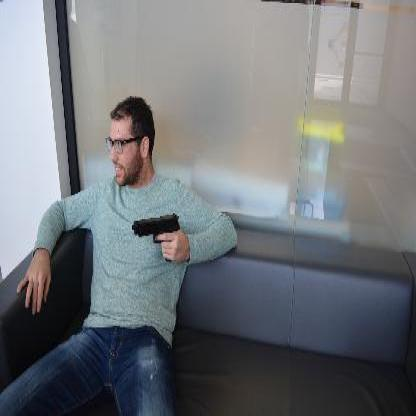pistol: (131, 211, 179, 259)
